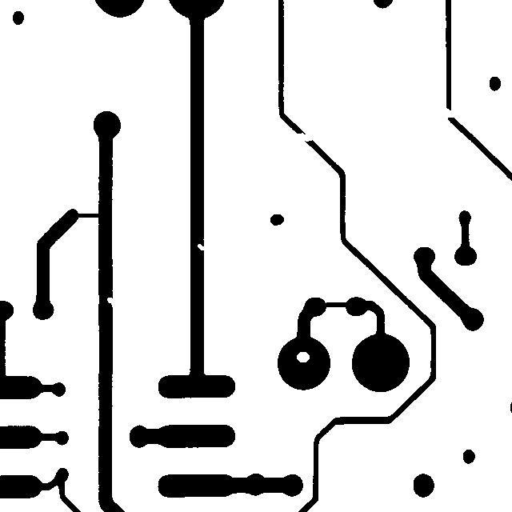copper: (262, 206, 291, 233)
mousebite: (99, 290, 126, 313), (190, 236, 212, 258)
open: (287, 125, 320, 149), (435, 100, 462, 126)
pin-hole: (289, 344, 317, 370)
short: (317, 294, 357, 314), (70, 206, 107, 225)
